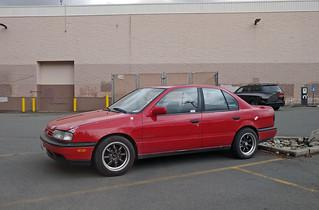fender-dent: (102, 113, 144, 134)
quaterpanel-dent: (239, 106, 275, 133)
